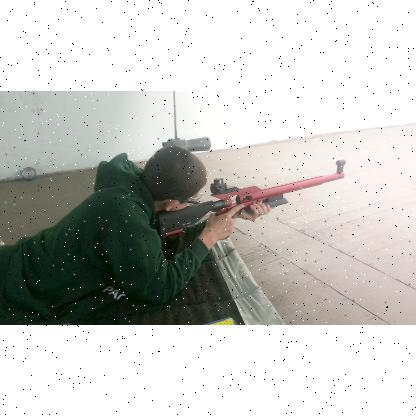gun: (152, 159, 346, 239)
